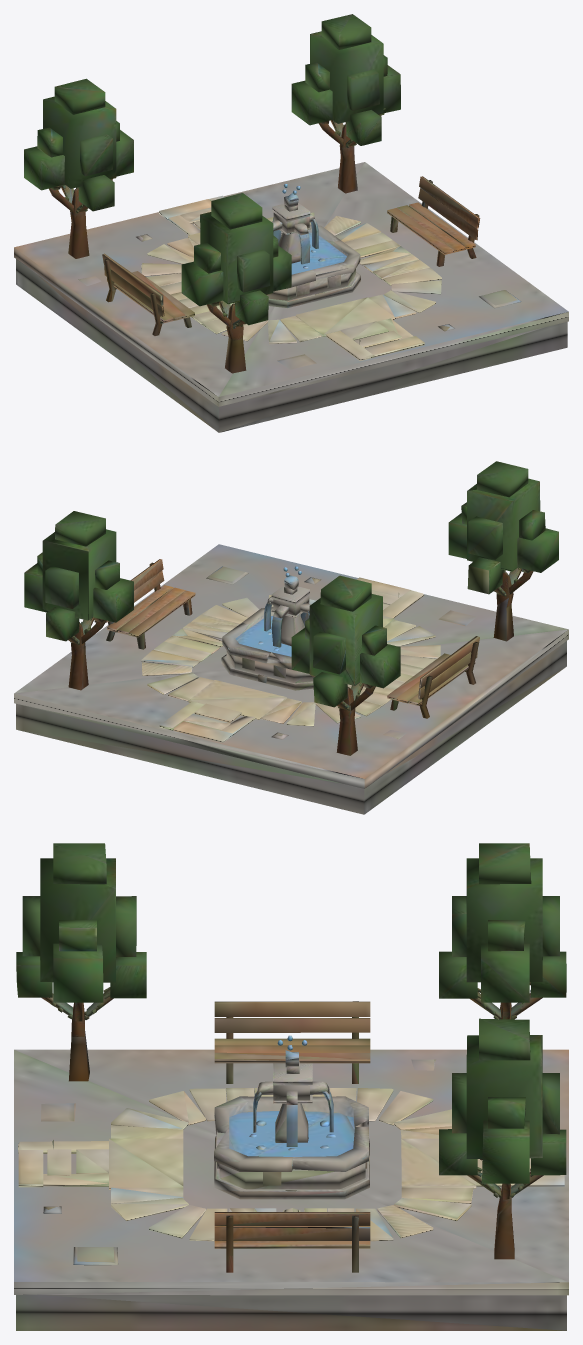
The model's file is 39-park-with-fountain.glb.
The picture shows the model from 3 angles, top to bottom: view 1: azimuth 30°, elevation 25°; view 2: azimuth 150°, elevation 25°; view 3: azimuth 270°, elevation 25°; orthographic projection. The views are drawn at different scales.
Parts seen in each view (by area): view 1: geometry_0; view 2: geometry_0; view 3: geometry_0.
Part boxes in pixels (left/top/right/bottom): geometry_0: left=14, top=14, right=568, bottom=432; geometry_0: left=14, top=461, right=568, bottom=814; geometry_0: left=14, top=843, right=568, bottom=1330.
Bounding box in the file's own units: 0.9507 × 0.5102 × 0.937.
Materials: 1 (1 with a texture image).
